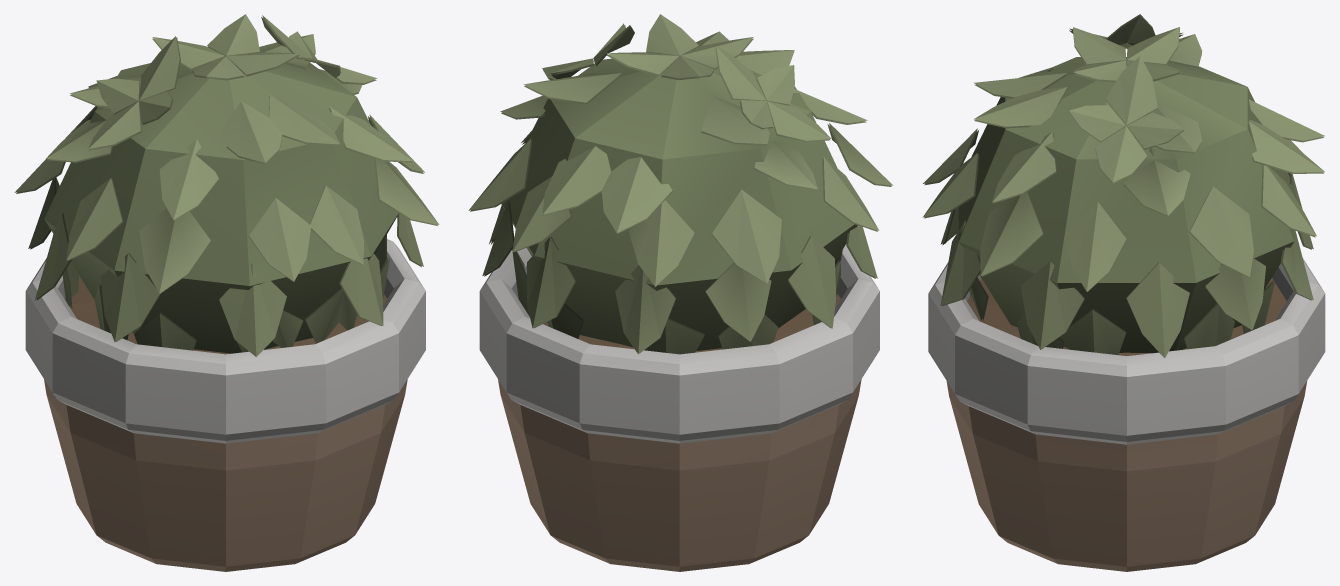
The model's file is basil.glb.
3 renders of one model, left to right at view 1: azimuth 30°, elevation 25°; view 2: azimuth 150°, elevation 25°; view 3: azimuth 270°, elevation 25°, orthographic.
Visible parts, largest first — view 1: basil.001; view 2: basil.001; view 3: basil.001.
Part boxes in pixels (x1,y1,x2,y2): basil.001: [14, 14, 439, 571]; basil.001: [468, 14, 893, 571]; basil.001: [922, 14, 1325, 571].
Bounding box in the file's own units: 0.7467 × 0.9589 × 0.7313.
